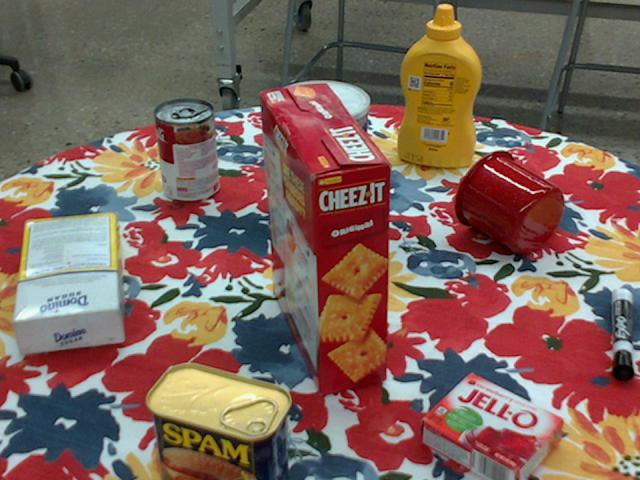cracker_box: (259, 85, 387, 396)
gelatin_box: (420, 372, 564, 479)
large_marker: (613, 286, 634, 377)
master_chef_can: (272, 79, 369, 236)
mug: (454, 150, 564, 253)
mustard_bottle: (397, 5, 480, 167)
potted_meat_can: (141, 364, 288, 479)
sugar_box: (13, 215, 123, 352)
tomato_soup_can: (154, 98, 218, 203)
tuna_fish_can: (273, 117, 341, 169)
